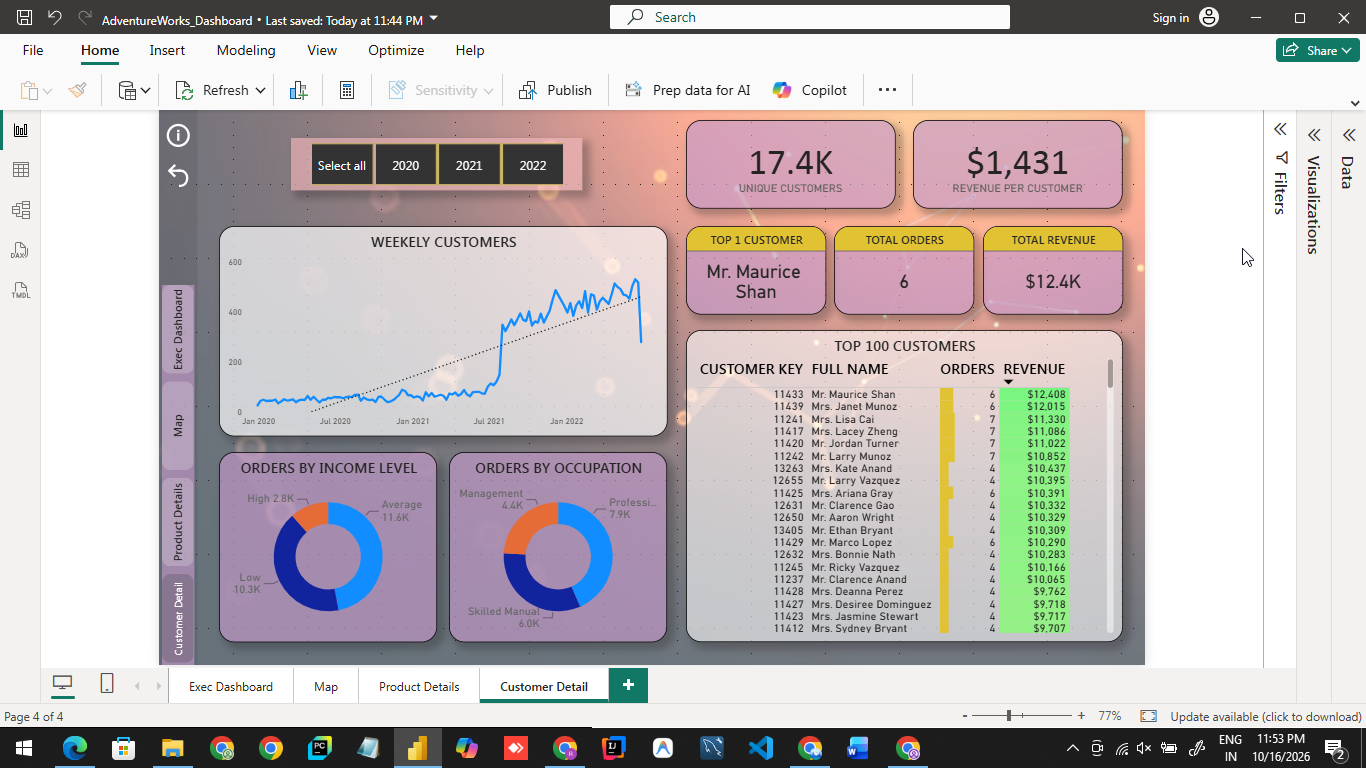

The page's visual inventory and layout, read from the dashboard file:
{"tool":"powerbi","page":{"name":"Customer Detail","canvas":[1280,720],"ordinal":3},"visuals":[{"type":"card","fields":{"Values":["Measure Table.Total Customers"]},"box":[683.3,13.3,271.7,115],"z":0},{"type":"card","fields":{"Values":["Measure Table.Average Revenue Per Customer"]},"box":[978.3,13.3,271.7,115],"z":1000},{"type":"lineChart","title":"WEEKELY CUSTOMERS","fields":{"Y":["Measure Table.Total Customers"],"Category":["Calendar Lookup.Date Hierarchy.Start of Year","Calendar Lookup.Date Hierarchy.Start of Month","Calendar Lookup.Date Hierarchy.Start of Week","Calendar Lookup.Date Hierarchy.Date"]},"box":[78.3,150,581.7,273.3],"z":2000},{"type":"donutChart","title":"ORDERS BY INCOME LEVEL","fields":{"Category":["Customer Lookup.Income Level"],"Y":["Measure Table.Total Orders"]},"box":[78.3,443.3,283.3,246.7],"z":3000},{"type":"donutChart","title":"ORDERS BY OCCUPATION","fields":{"Y":["Measure Table.Total Orders"],"Category":["Customer Lookup.Occupation"]},"box":[376.7,443.3,283.3,246.7],"z":4000},{"type":"tableEx","title":"TOP 100 CUSTOMERS","fields":{"Values":["Sales Data.CustomerKey","Customer Lookup.FullName","Measure Table.Total Orders","Measure Table.Total Revenue"]},"box":[683.3,285,566.7,405],"z":5000},{"type":"card","title":"TOP 1 CUSTOMER","fields":{"Values":["Min(Customer Lookup.FullName)"]},"box":[683.3,150,181.7,115],"z":6000},{"type":"card","title":"TOTAL ORDERS","fields":{"Values":["Measure Table.Total Orders"]},"box":[875.8,150,181.7,115],"z":7000},{"type":"card","title":"TOTAL REVENUE","fields":{"Values":["Measure Table.Total Revenue"]},"box":[1068.3,150,181.7,115],"z":8000},{"type":"slicer","fields":{"Values":["Calendar Lookup.Year"]},"box":[171.7,36.7,378.3,68.3],"z":9000},{"type":"shape","box":[0,0,50,720],"z":10000},{"type":"actionButton","box":[0,13.3,50,40],"z":11000},{"type":"actionButton","box":[0,65,50,40],"z":12000},{"type":"pageNavigator","box":[3.3,226.7,41.7,493.3],"z":13000}]}

Visuals, with their boxes on the page's 1280x720 design canvas (x1, y1, x2, y2). These are canvas units, not pixel positions in the 1366x768 screenshot, which may show the page scaled, cropped or inside an application window:
card - Measure Table.Total Customers: <bbox>683, 13, 955, 128</bbox>
card - Measure Table.Average Revenue Per Customer: <bbox>978, 13, 1250, 128</bbox>
"WEEKELY CUSTOMERS" lineChart: <bbox>78, 150, 660, 423</bbox>
"ORDERS BY INCOME LEVEL" donutChart: <bbox>78, 443, 362, 690</bbox>
"ORDERS BY OCCUPATION" donutChart: <bbox>377, 443, 660, 690</bbox>
"TOP 100 CUSTOMERS" tableEx: <bbox>683, 285, 1250, 690</bbox>
"TOP 1 CUSTOMER" card: <bbox>683, 150, 865, 265</bbox>
"TOTAL ORDERS" card: <bbox>876, 150, 1058, 265</bbox>
"TOTAL REVENUE" card: <bbox>1068, 150, 1250, 265</bbox>
slicer - Calendar Lookup.Year: <bbox>172, 37, 550, 105</bbox>
shape: <bbox>0, 0, 50, 720</bbox>
actionButton: <bbox>0, 13, 50, 53</bbox>
actionButton: <bbox>0, 65, 50, 105</bbox>
pageNavigator: <bbox>3, 227, 45, 720</bbox>
